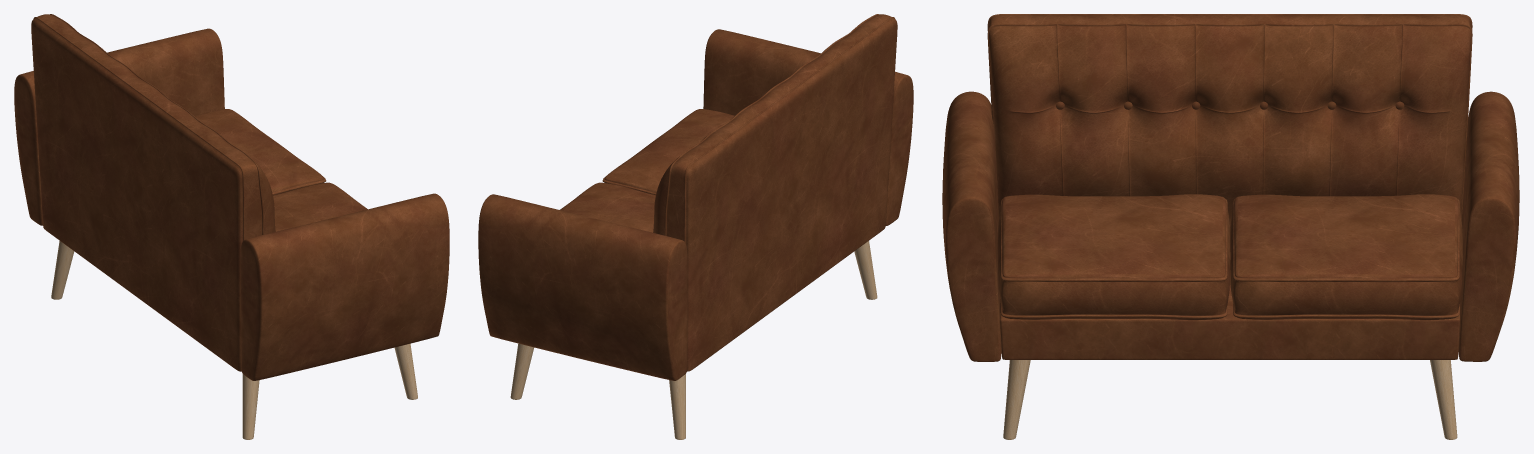
Rendered from 02_MID_SOFA_LEATHER_WIP_2K_v04.gltf.
3 renders of one model, left to right at view 1: azimuth 30°, elevation 25°; view 2: azimuth 150°, elevation 25°; view 3: azimuth 270°, elevation 25°, orthographic. The views are drawn at different scales.
Parts seen in each view (by area): view 1: Back.009, Left_Arm.002, Left_Arm.003, Left_Seat.007, Left_Seat.006, Leg01.002, Leg02.002, Leg03.002; view 2: Back.009, Left_Arm.003, Left_Arm.002, Left_Seat.006, Left_Seat.007, Leg03.002, Leg04.002, Leg01.002; view 3: Back.009, Left_Seat.006, Left_Seat.007, Bottom.002, Left_Arm.003, Left_Arm.002, Leg04.002, Leg02.002.
Part boxes in pixels (x1,y1,x2,y2): Back.009: (31, 14, 275, 371); Left_Arm.002: (240, 193, 449, 380); Left_Arm.003: (14, 28, 224, 225); Left_Seat.007: (194, 109, 326, 195); Left_Seat.006: (273, 182, 367, 231); Leg01.002: (242, 374, 259, 439); Leg02.002: (394, 343, 417, 399); Leg03.002: (51, 241, 74, 299); Back.009: (653, 14, 897, 371); Left_Arm.003: (478, 194, 687, 380); Left_Arm.002: (703, 29, 913, 225); Left_Seat.006: (602, 109, 734, 195); Left_Seat.007: (560, 182, 655, 232); Leg03.002: (669, 374, 685, 439); Leg04.002: (510, 343, 534, 399); Leg01.002: (854, 241, 877, 299); Back.009: (987, 14, 1472, 227); Left_Seat.006: (997, 194, 1230, 320); Left_Seat.007: (1230, 194, 1463, 320); Bottom.002: (1000, 270, 1460, 359); Left_Arm.003: (1458, 91, 1519, 361); Left_Arm.002: (942, 91, 1001, 361); Leg04.002: (1430, 360, 1457, 439); Leg02.002: (1003, 360, 1030, 439).
Bounding box in the file's own units: 0.8267 × 1.12 × 1.8.
Materials: 6 (6 with a texture image).
